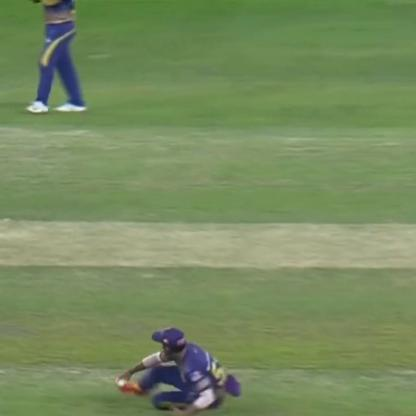ball: (115, 376, 134, 394)
